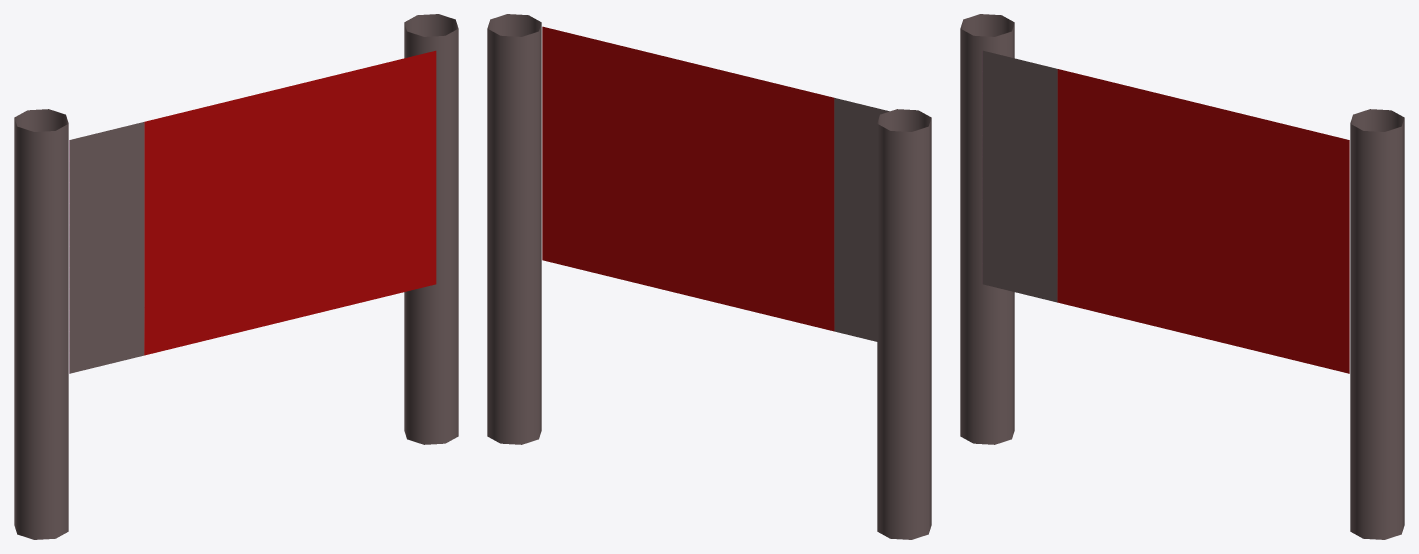
Rendered from InvertedPlaca.fbx.
3 renders of one model, left to right at view 1: azimuth 30°, elevation 25°; view 2: azimuth 150°, elevation 25°; view 3: azimuth 330°, elevation 25°, orthographic.
Parts seen in each view (by area): view 1: Placa; view 2: Placa; view 3: Placa.
Part boxes in pixels (bbox=[...]): Placa: bbox=[14, 14, 458, 539]; Placa: bbox=[487, 14, 931, 539]; Placa: bbox=[960, 14, 1404, 539].
Size of the model in its own units: 135 by 120 by 16.25.
